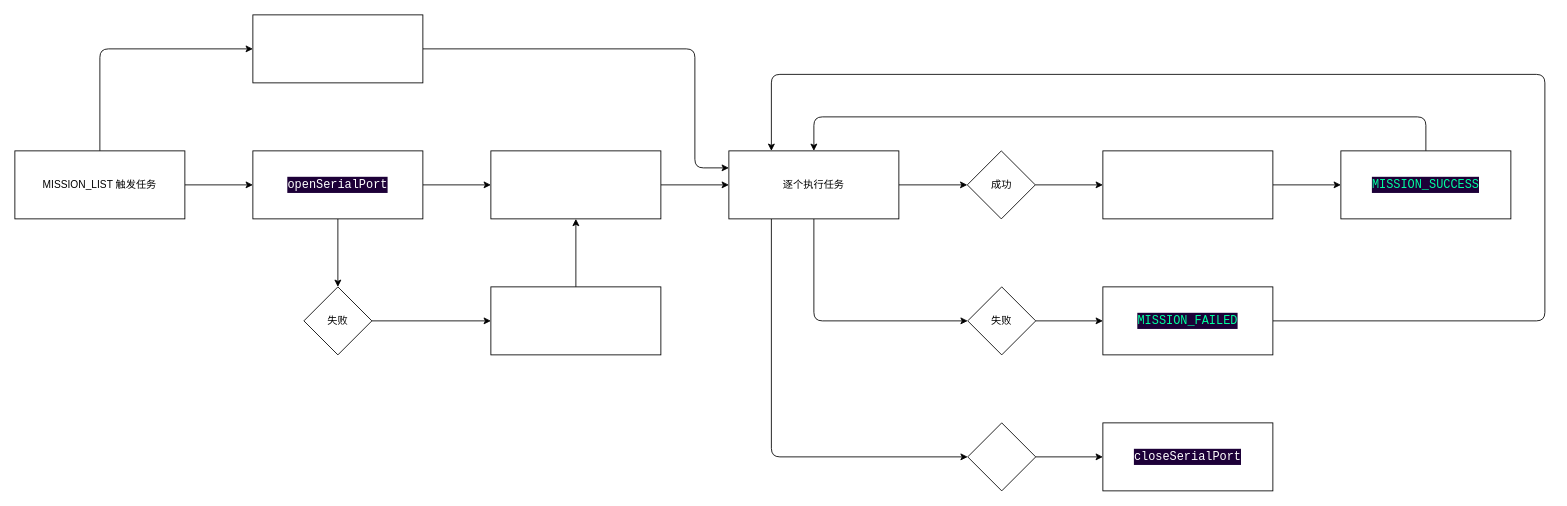
The diagram is 1567 pixels wide and 506 high, and some of its shapes have lost their labels. The shapes that lost their labels are listed below. From the top down, each one's centre as x and y in pixels, then its label:
At (337,48): "中断当前任务".
At (575,184): "读取missionList.json 获取任务列表".
At (1187,184): "更新数据库".
At (575,320): "autoReconnect".
At (1001,456): "全部完成".
